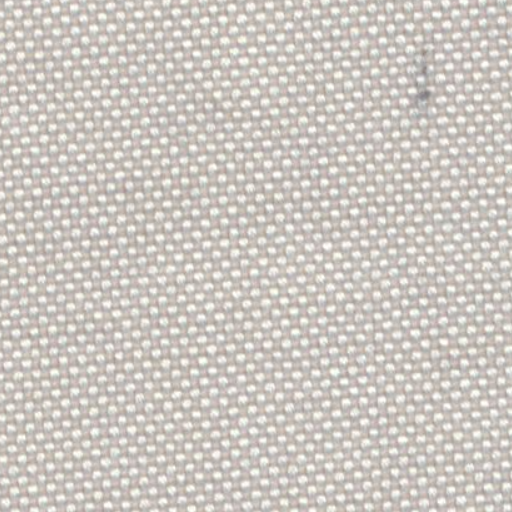WuZi: (392, 35, 452, 119)
